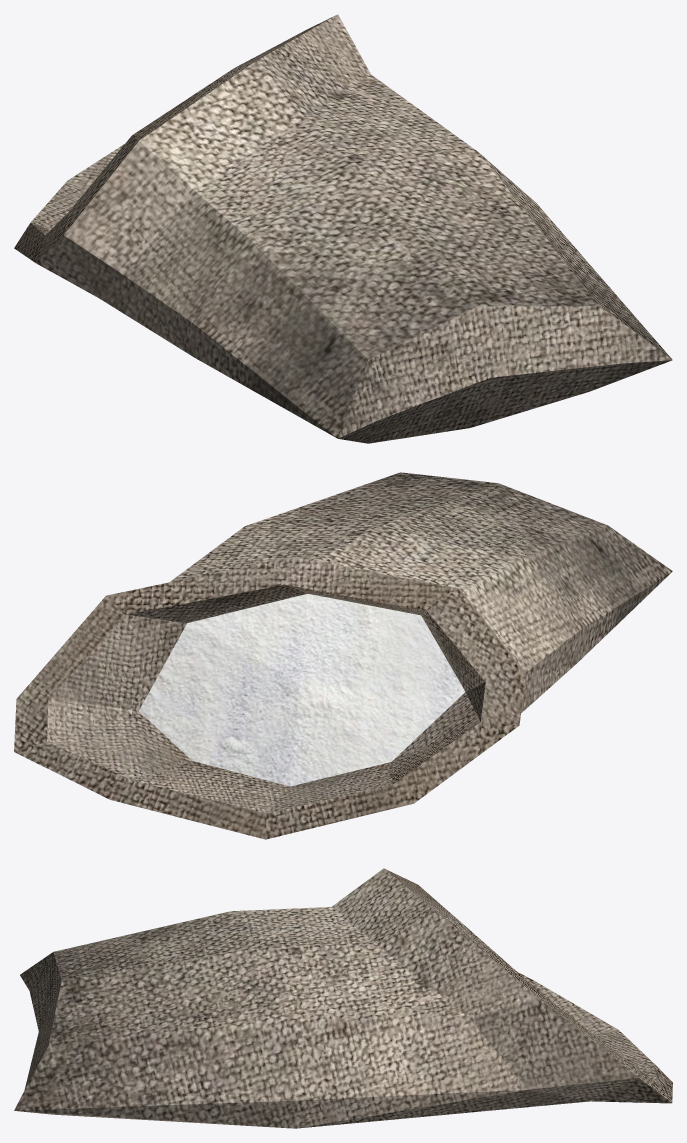
The model's file is ITMI_ALCHEMY_SALT_01.glb.
3 renders of one model, top to bottom at view 1: azimuth 30°, elevation 25°; view 2: azimuth 150°, elevation 25°; view 3: azimuth 270°, elevation 25°, orthographic. The views are drawn at different scales.
Parts seen in each view (by area): view 1: ITMI_ALCHEMY_SALT_01; view 2: ITMI_ALCHEMY_SALT_01; view 3: ITMI_ALCHEMY_SALT_01.
Boxes of the visible parts, box(x1,y1,x2,y2) form: ITMI_ALCHEMY_SALT_01: box(14, 14, 672, 443); ITMI_ALCHEMY_SALT_01: box(14, 472, 672, 839); ITMI_ALCHEMY_SALT_01: box(14, 868, 672, 1128).
Size of the model in its own units: 0.1249 by 0.0583 by 0.1971.
Materials: 1 (1 with a texture image).
